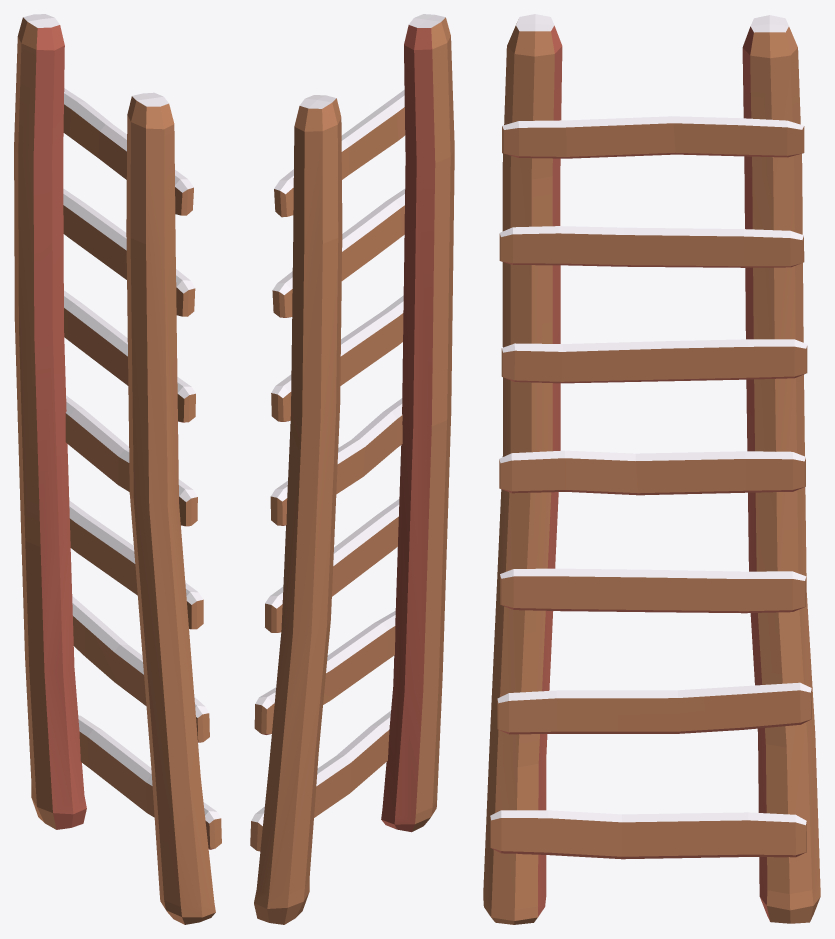
The model's file is ladder.fbx.
The picture shows the model from 3 angles, left to right: view 1: azimuth 30°, elevation 25°; view 2: azimuth 150°, elevation 25°; view 3: azimuth 270°, elevation 25°; orthographic projection. The views are drawn at different scales.
Visible parts, largest first — view 1: Item1; view 2: Item1; view 3: Item1.
Boxes of the visible parts, x1,y1,x2,y2 form: Item1: (14, 14, 221, 924); Item1: (250, 14, 454, 924); Item1: (483, 14, 820, 924).
Size of the model in its own units: 17.89 by 189 by 65.59.
